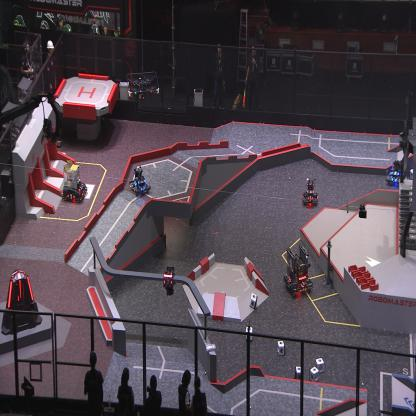car: (283, 243, 312, 296), (61, 159, 88, 205), (128, 164, 152, 198), (301, 176, 319, 206), (386, 157, 405, 184)
